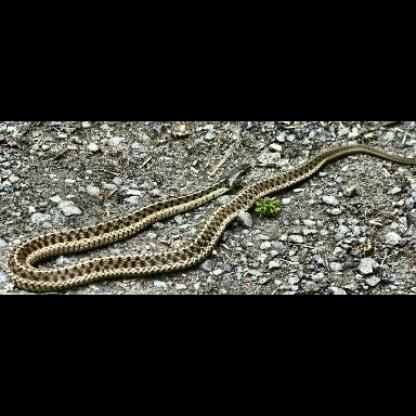Snake: (6, 142, 416, 290)
